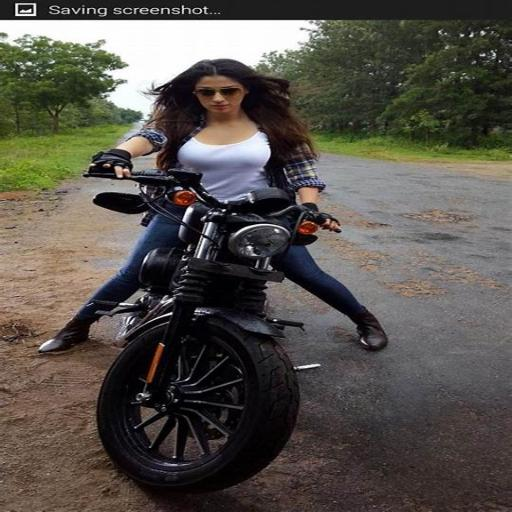helmet: (37, 57, 390, 354)
overloading: (77, 161, 333, 493)
